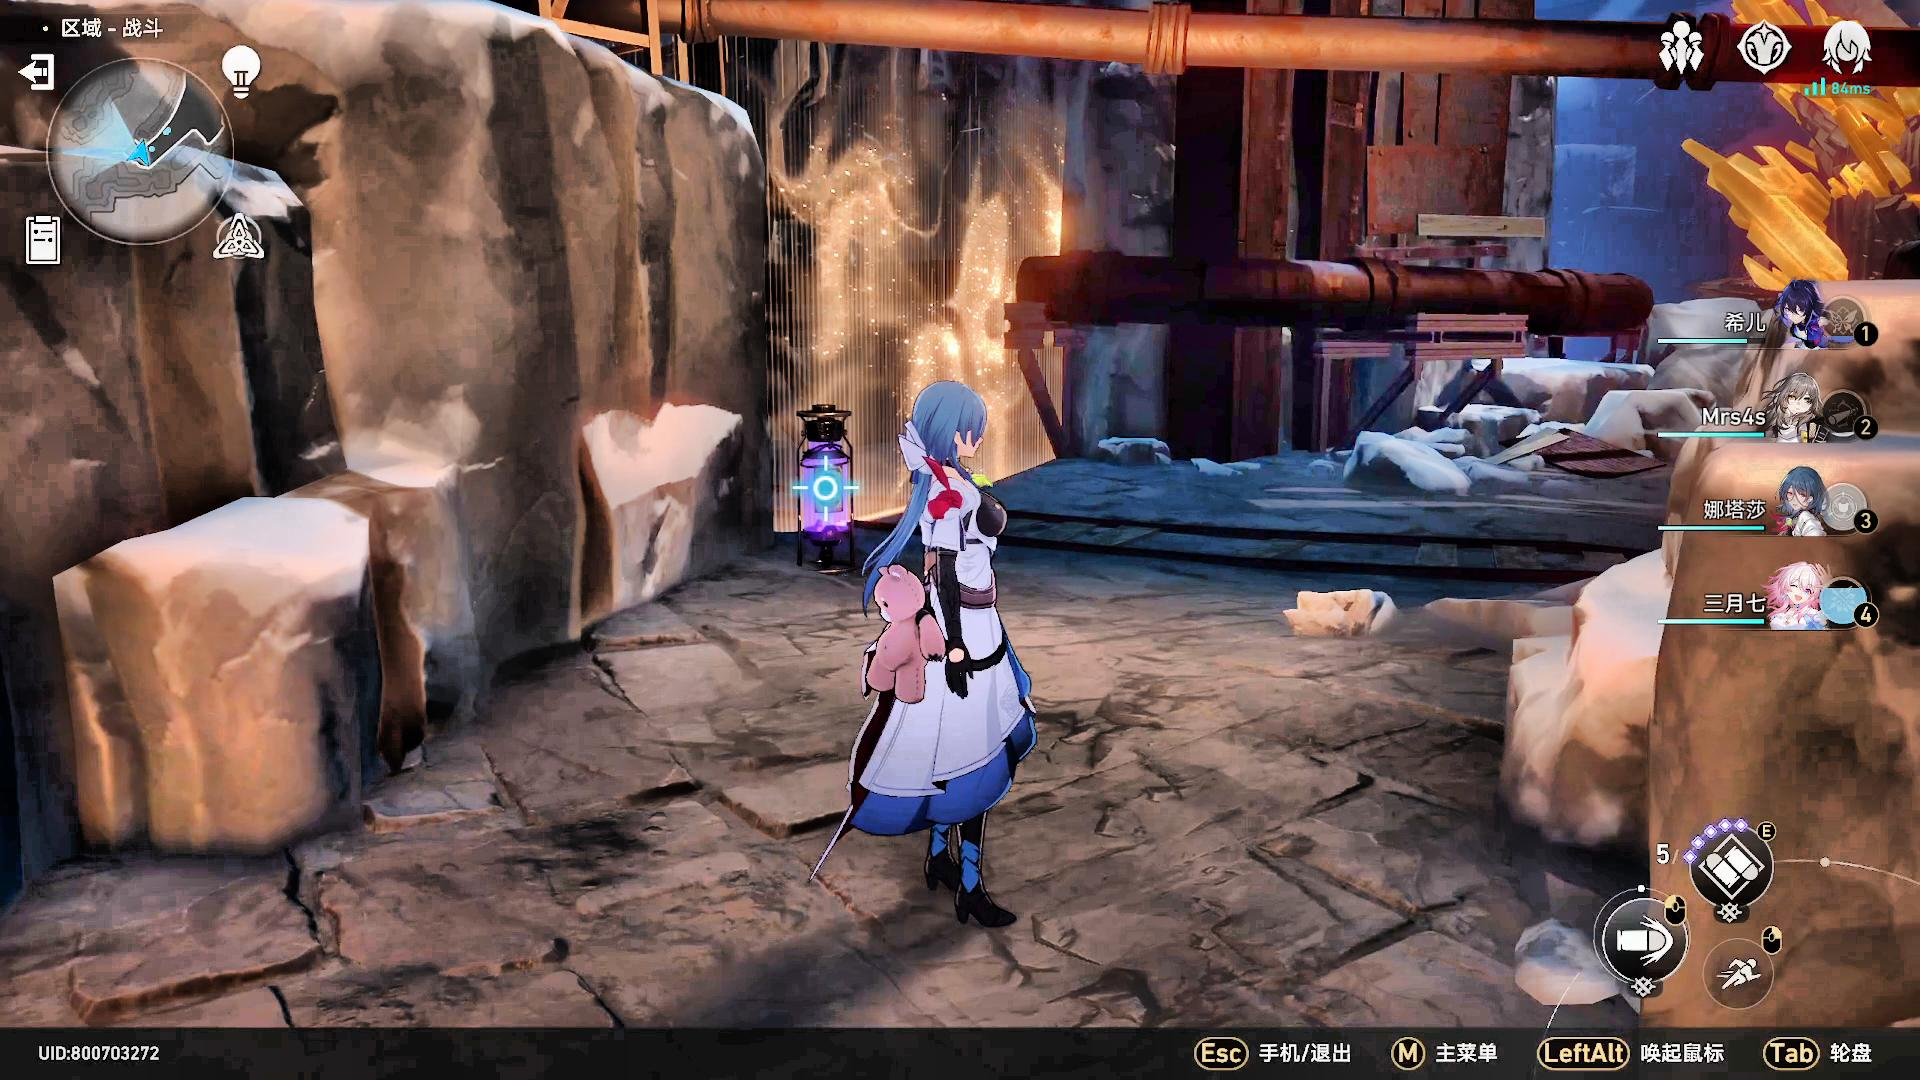Enemy: (835, 349, 1043, 928)
